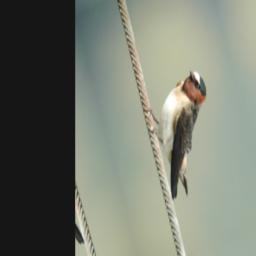Swallow: (140, 60, 232, 206)
